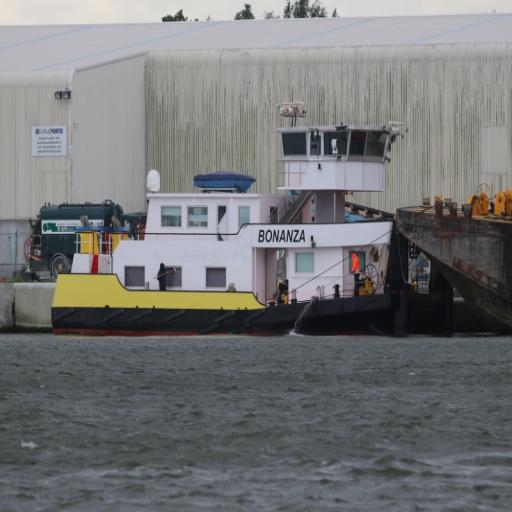tugboat: (50, 100, 466, 349)
